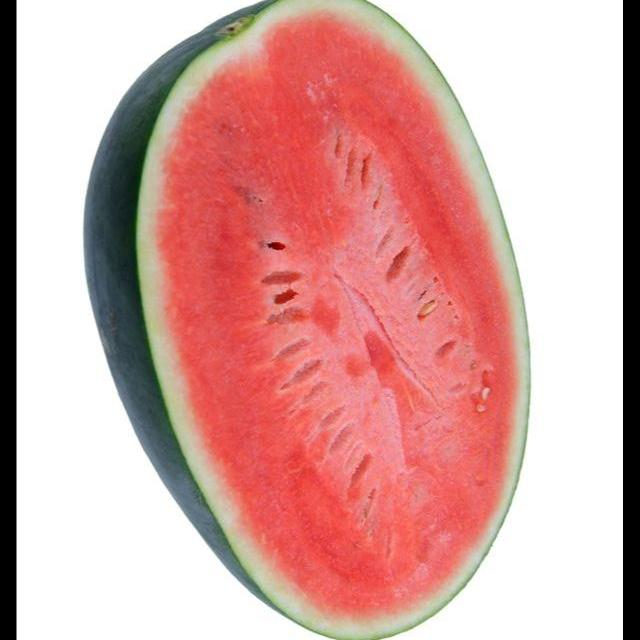watermelon: (83, 0, 533, 640)
